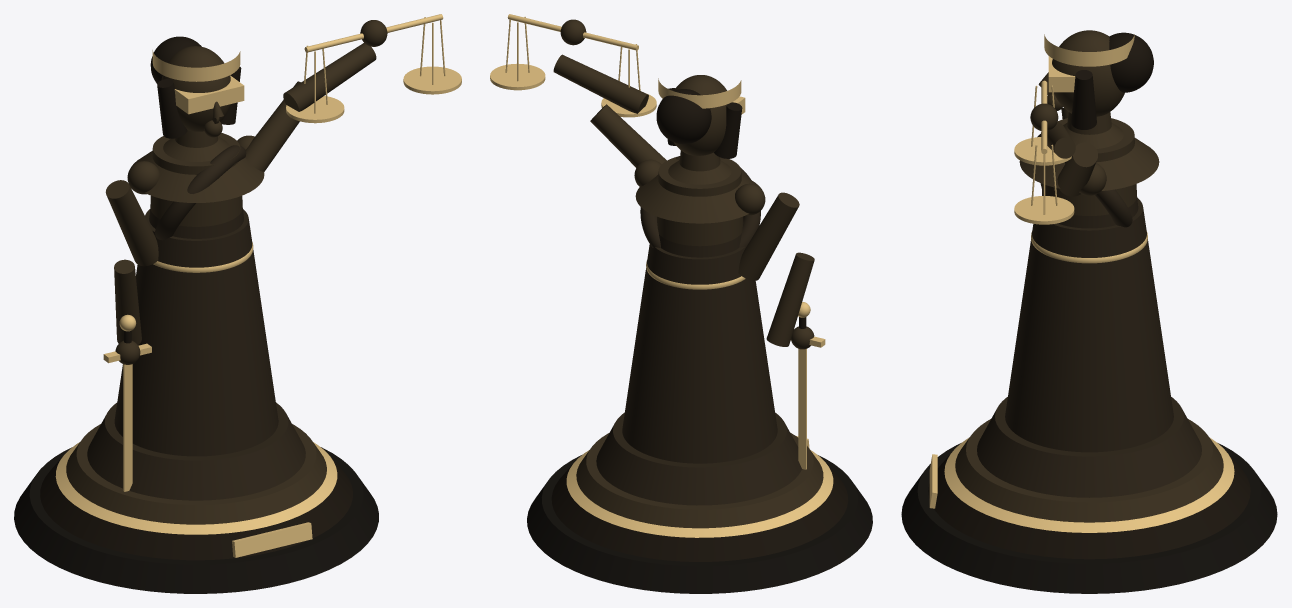
Rendered from themis11.glb.
3 views of the same model, side by side, from view 1: azimuth 30°, elevation 25°; view 2: azimuth 150°, elevation 25°; view 3: azimuth 270°, elevation 25° (orthographic). The views are drawn at different scales.
Parts seen in each view (by area): view 1: ThemisSculpture, RaisedScales; view 2: ThemisSculpture, RaisedScales; view 3: ThemisSculpture, RaisedScales.
Part boxes in pixels (x1=…): ThemisSculpture: x1=14, y1=20, x2=387, y2=593; RaisedScales: x1=286, y1=14, x2=461, y2=123; ThemisSculpture: x1=527, y1=19, x2=872, y2=593; RaisedScales: x1=490, y1=14, x2=656, y2=117; ThemisSculpture: x1=901, y1=30, x2=1277, y2=593; RaisedScales: x1=1014, y1=80, x2=1074, y2=224.
Size of the model in its own units: 4.4 by 5.11 by 3.5.
